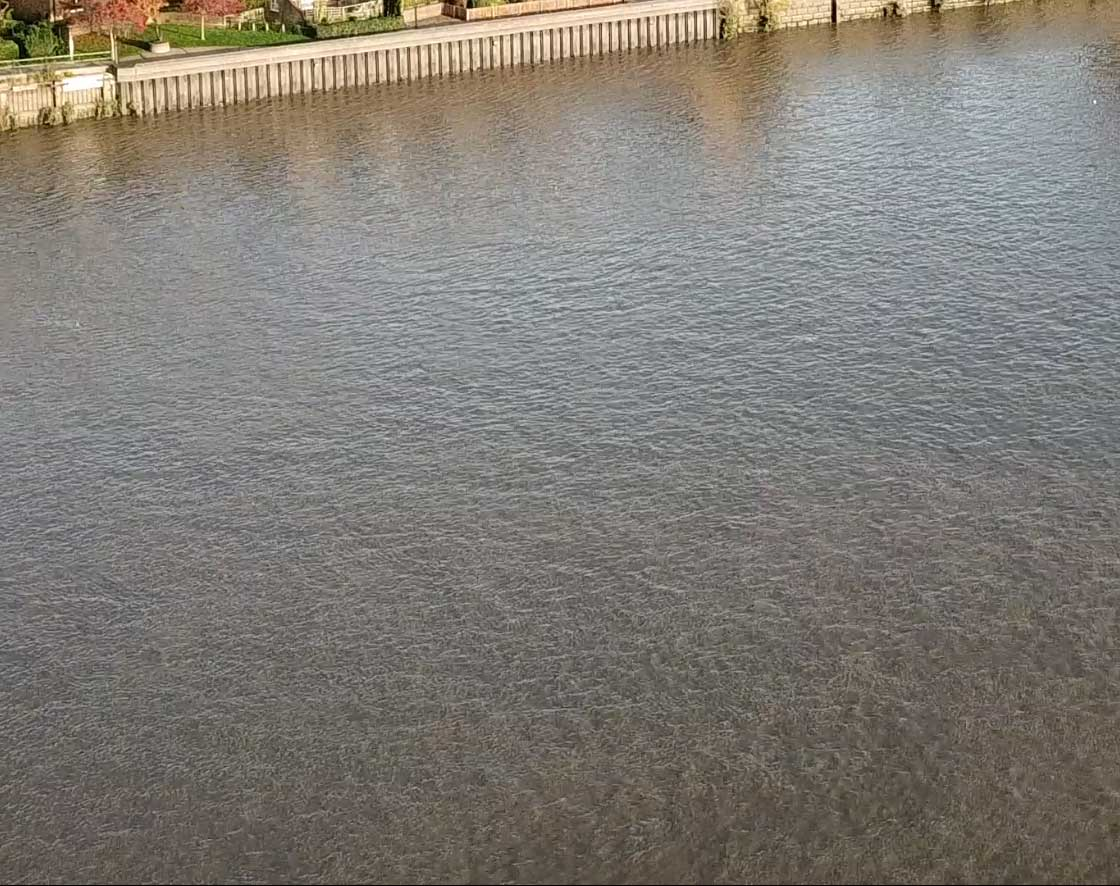water: (491, 85, 1049, 862), (308, 118, 978, 336), (61, 350, 186, 858)
